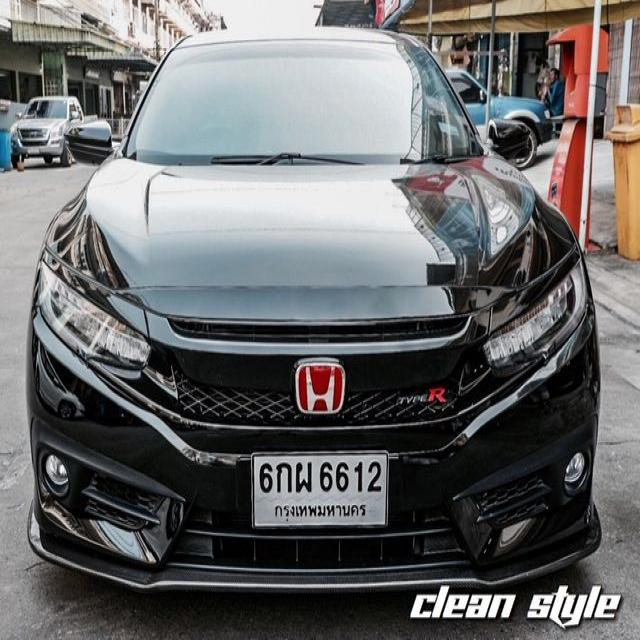license_plate: (250, 452, 388, 527)
